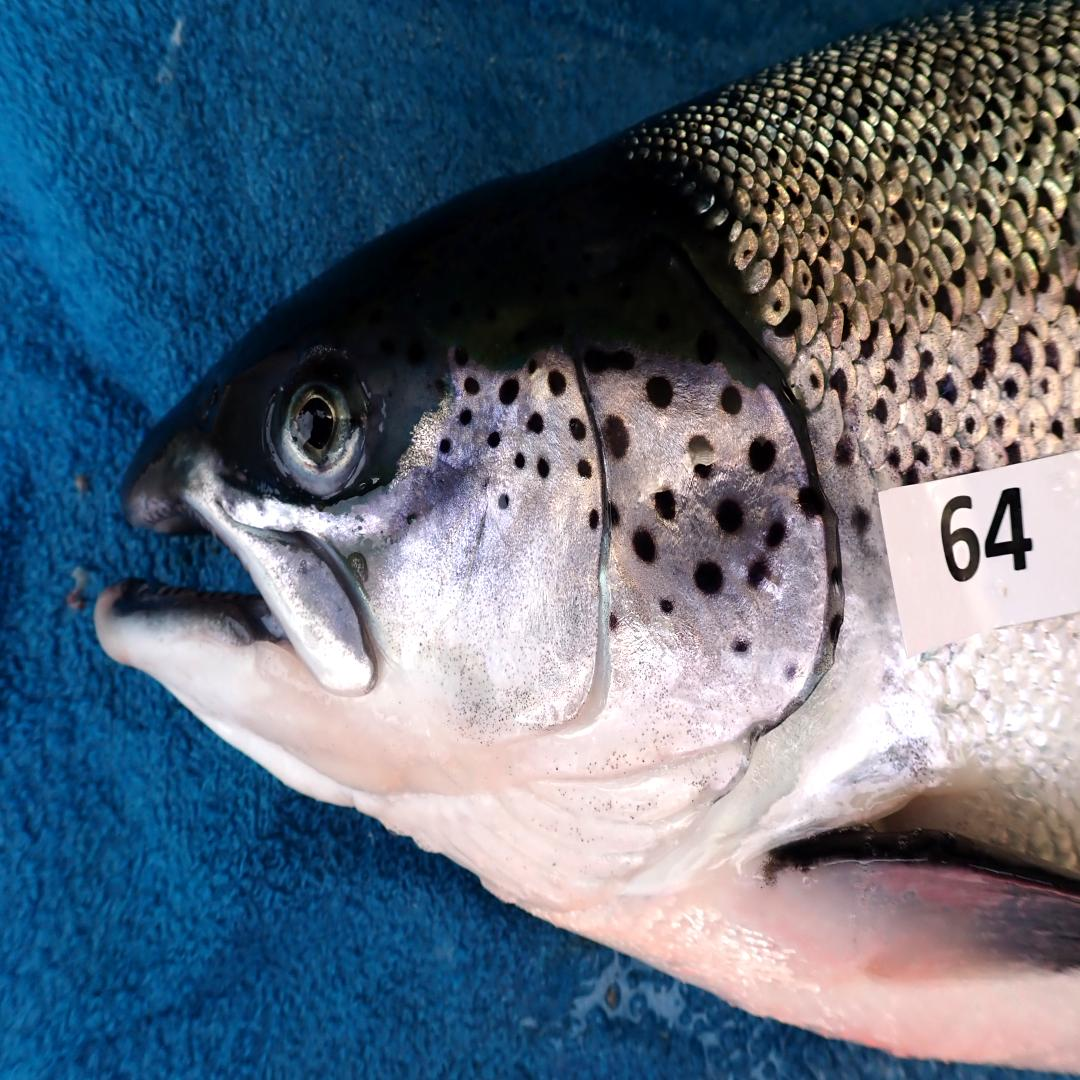roi: (371, 341, 833, 917)
